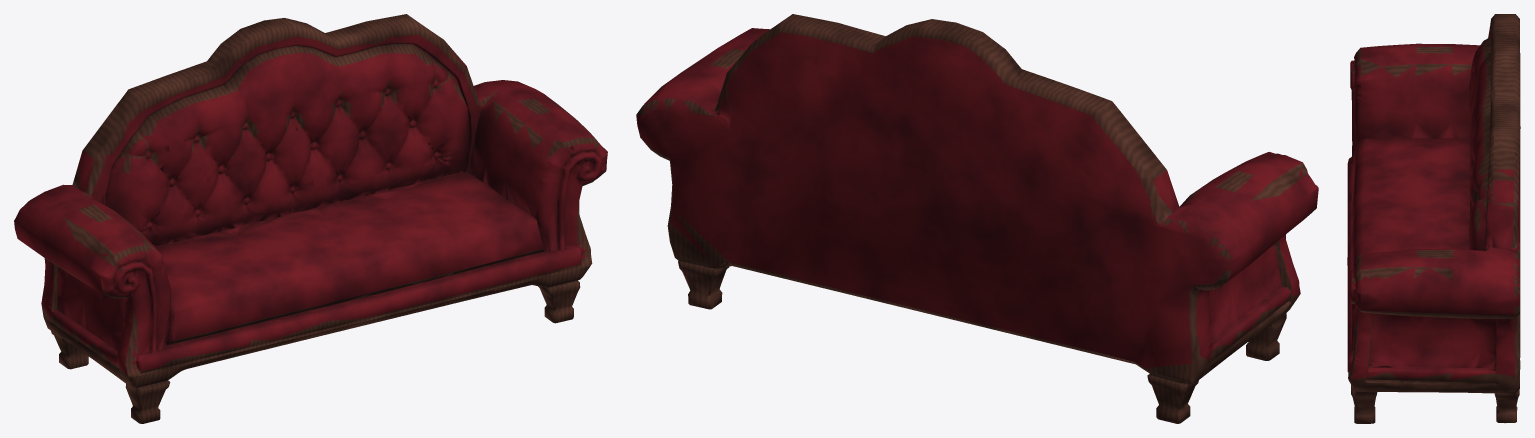
Rendered from Sofa_Roblox.fbx.
3 views of the same model, side by side, from view 1: azimuth 30°, elevation 25°; view 2: azimuth 150°, elevation 25°; view 3: azimuth 270°, elevation 25° (orthographic). The views are drawn at different scales.
Parts seen in each view (by area): view 1: Sofa; view 2: Sofa; view 3: Sofa.
Boxes of the visible parts, <box> form: Sofa: <box>14,14,607,423</box>; Sofa: <box>636,14,1318,423</box>; Sofa: <box>1347,14,1520,423</box>.
Size of the model in its own units: 2.1 by 1.13 by 0.6386.
